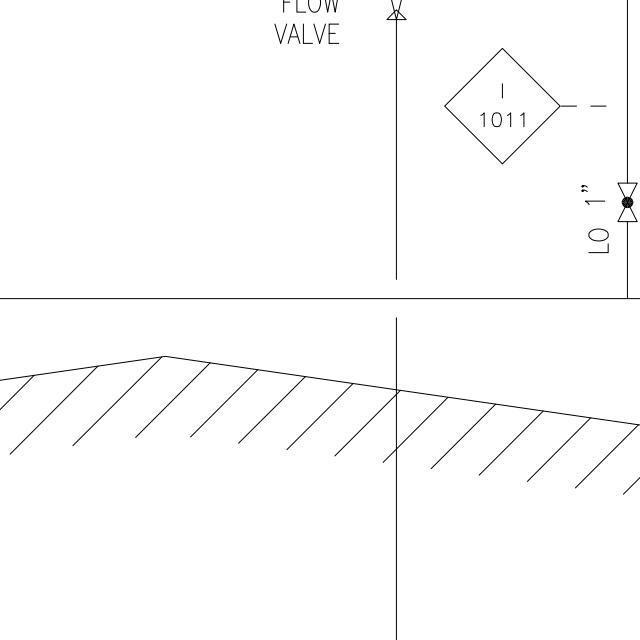BV2: (611, 177, 640, 227)
